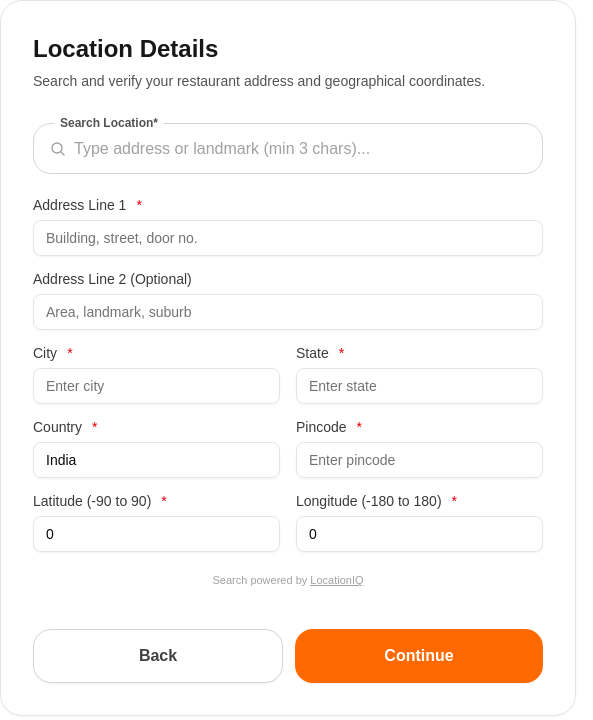
LocationPage › populates address form when a LocationIQ suggestion is selected
In the field labelled "Search Location*": (300, 149) [74,133,526,165], type "MG Road"
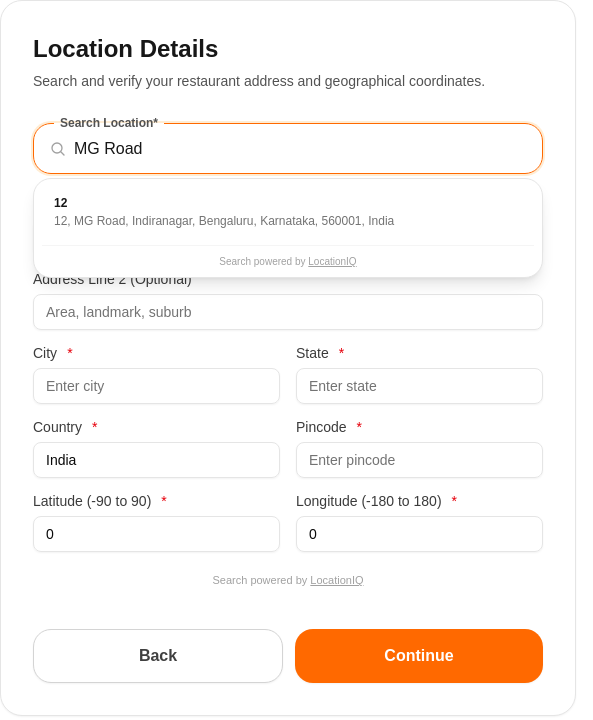
Click the text "12": (61, 203) [54,196,67,210]
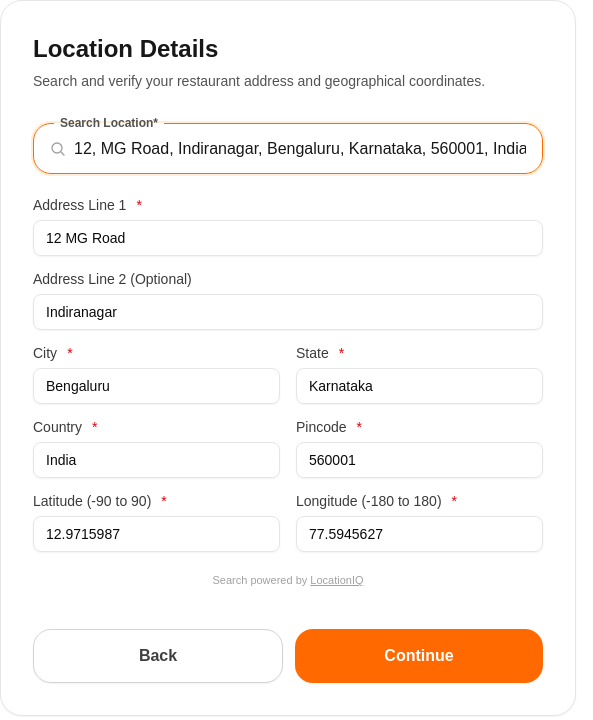
Expected: the field labelled "Address Line 1 *" holds "12 MG Road", [33,220,543,256]
Expected: the field labelled "City *" holds "Bengaluru", [33,368,280,404]
Expected: the field labelled "State *" holds "Karnataka", [296,368,543,404]
